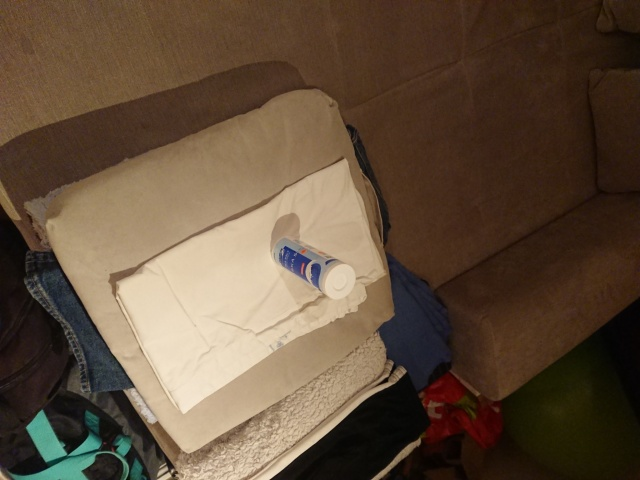Solana Pag Fine Sea Salt 250g: (268, 232, 358, 302)
